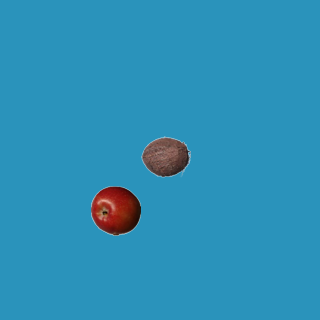Apple Braeburn: (90, 185, 140, 235)
Cocos: (140, 131, 190, 181)
